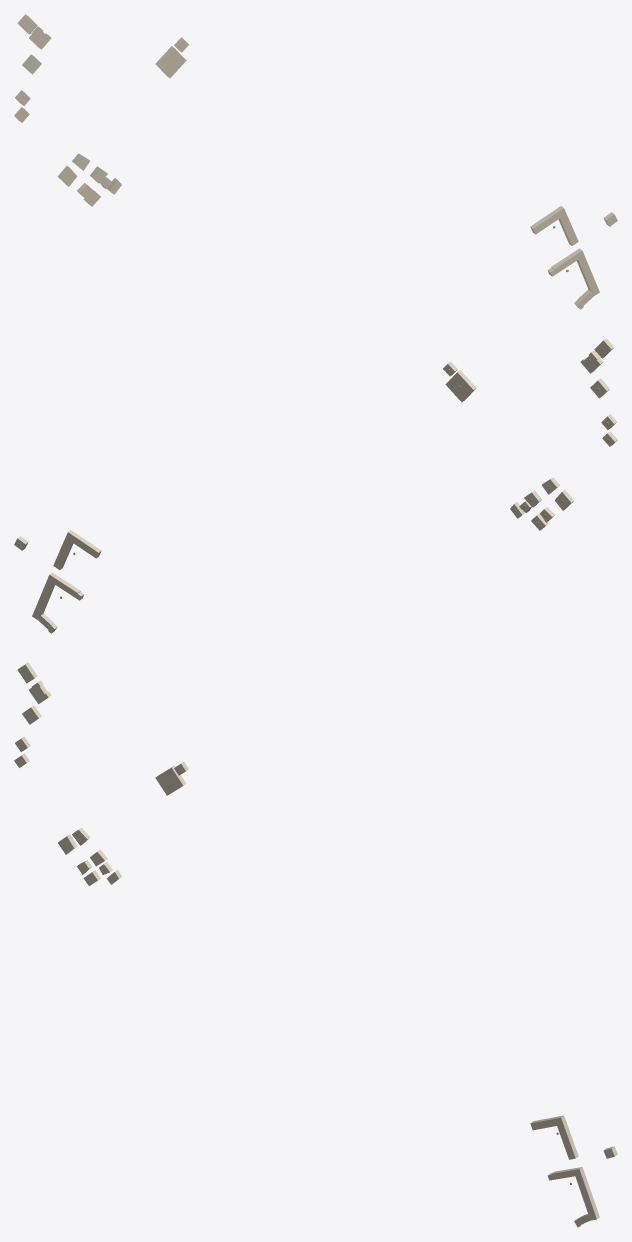
File: historic-palestine-01_18_3426_3127.glb
The picture shows the model from 3 angles, top to bottom: view 1: azimuth 30°, elevation 25°; view 2: azimuth 150°, elevation 25°; view 3: azimuth 330°, elevation 25°; orthographic projection.
Visible parts, largest first — view 1: Building_.007, Building_, Building_.002; view 2: Building_.007, Building_, Building_.002; view 3: Building_.007.
Part boxes in pixels (bbox=[...]): Building_.007: bbox=[547, 248, 599, 296]; Building_: bbox=[530, 206, 578, 245]; Building_.002: bbox=[155, 46, 186, 78]; Building_.007: bbox=[32, 572, 84, 620]; Building_: bbox=[53, 530, 101, 569]; Building_.002: bbox=[445, 370, 476, 402]; Building_.007: bbox=[547, 1167, 599, 1220].
Bounding box in the file's own units: 852 × 580 × 8.7.
